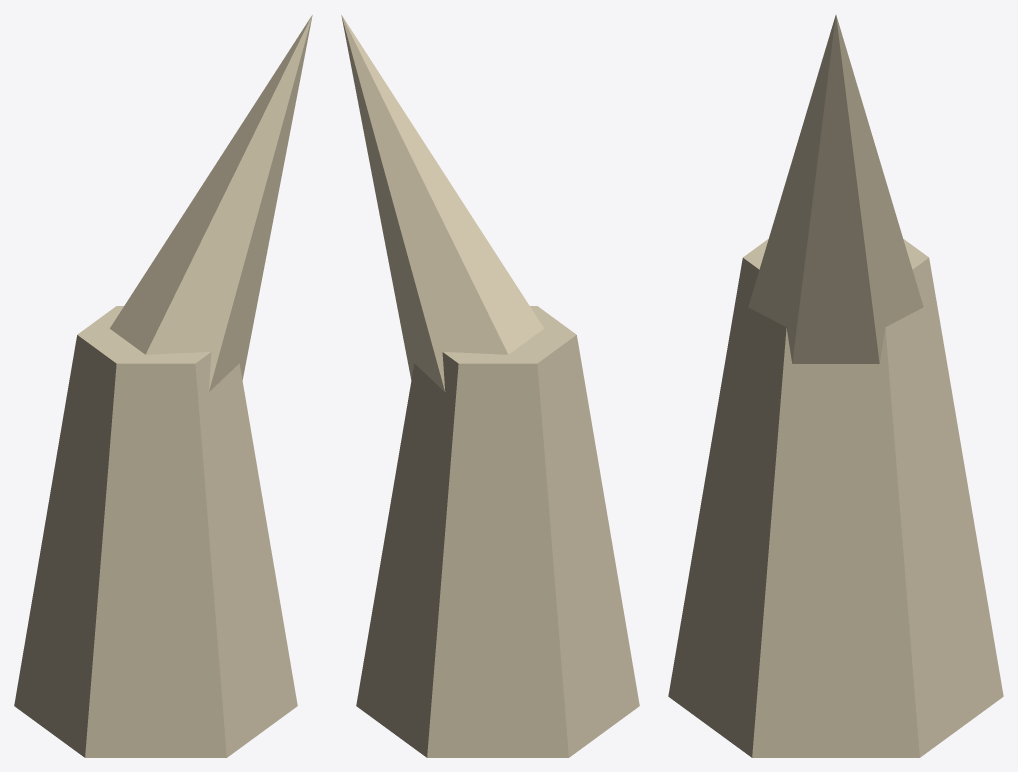
File: presa.glb
The picture shows the model from 3 angles, left to right: view 1: azimuth 30°, elevation 25°; view 2: azimuth 150°, elevation 25°; view 3: azimuth 270°, elevation 25°; orthographic projection. The views are drawn at different scales.
Parts seen in each view (by area): view 1: Cone; view 2: Cone; view 3: Cone.
Boxes of the visible parts, bbox=[...] form: Cone: bbox=[14, 15, 312, 757]; Cone: bbox=[341, 15, 639, 757]; Cone: bbox=[668, 15, 1003, 757].
Size of the model in its own units: 0.0964 by 0.2289 by 0.09.
